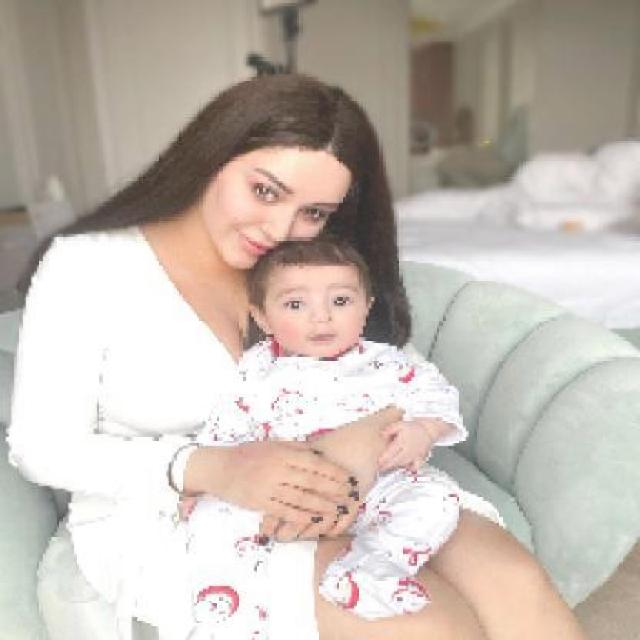child: (178, 231, 471, 620)
